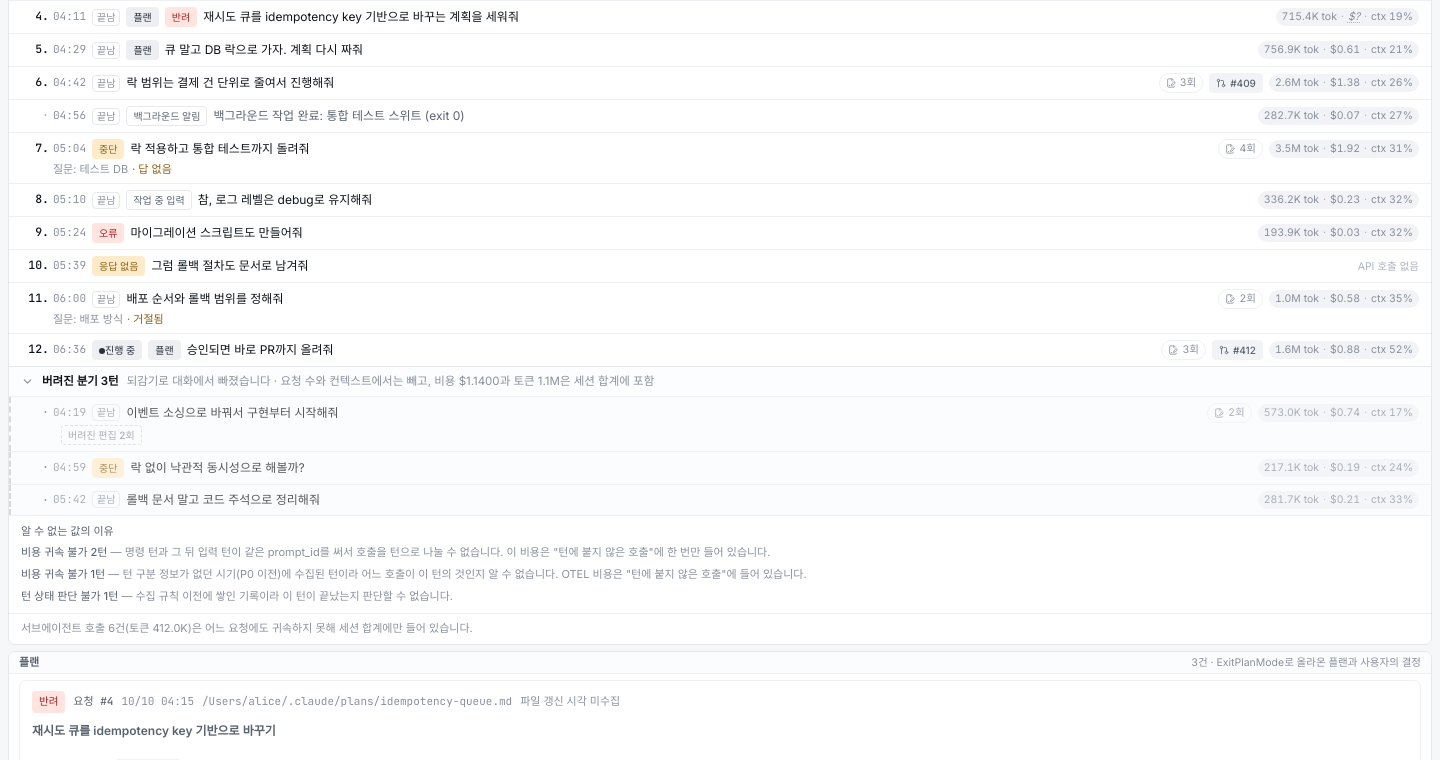
Test: 턴 줄과 작업 항목 줄은 선택한 턴을 부모에 전달한다 › 버려진 분기는 접고 펼 수 있다
(page scrolled)
Click the button "버려진 분기 3턴" at (71, 381), box top-left (9, 367), bottom-right (1431, 396)
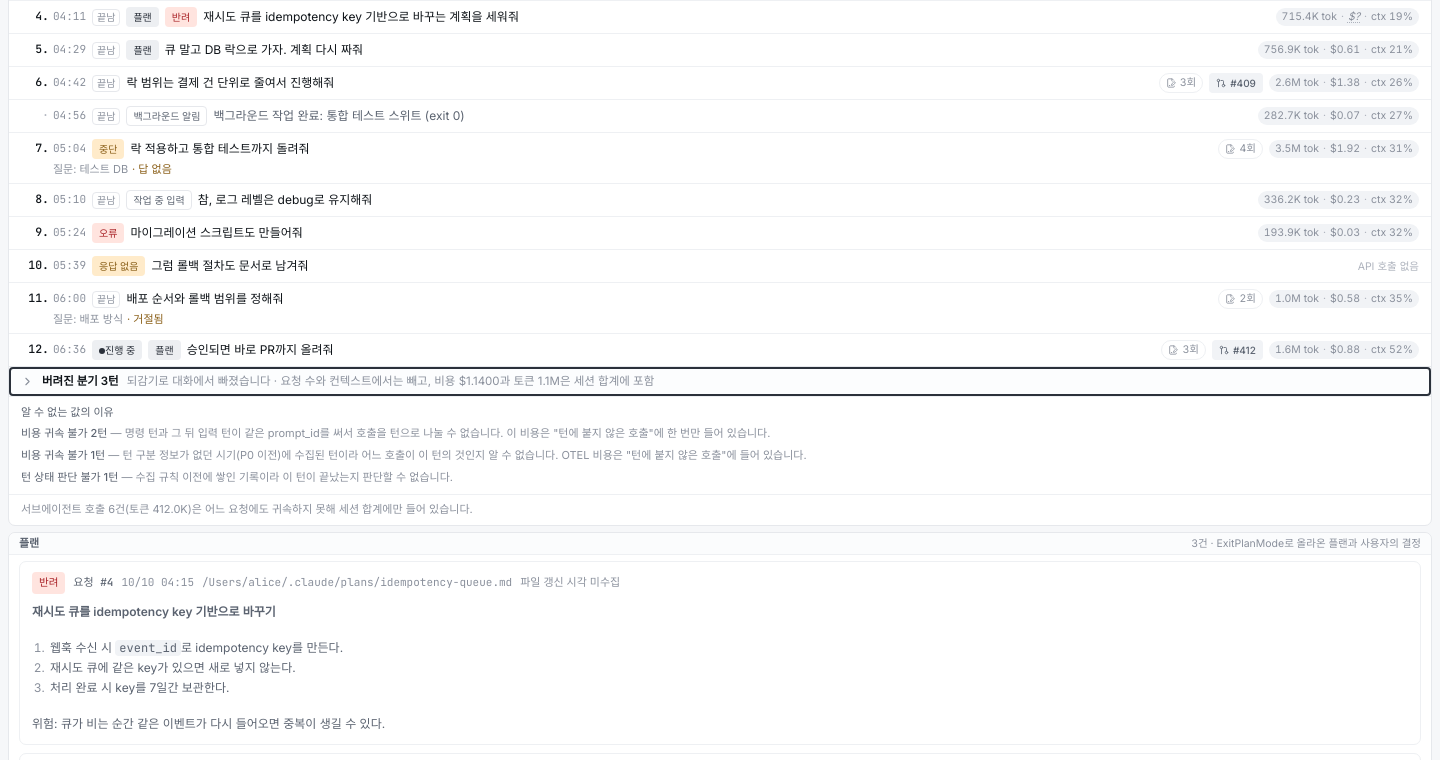
Expected: the button "이벤트 소싱으로 바꿔서 구현부터 시작해줘" is gone
